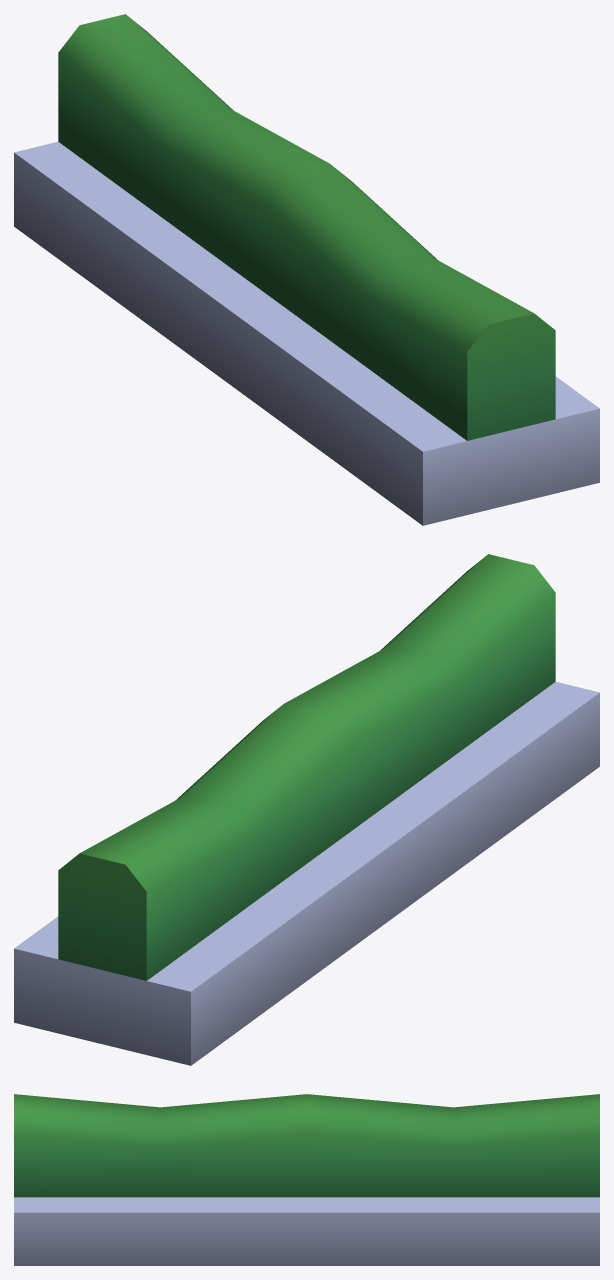
File: hedge_straight.glb
3 views of the same model, one above another, from view 1: azimuth 30°, elevation 25°; view 2: azimuth 150°, elevation 25°; view 3: azimuth 270°, elevation 25° (orthographic). The views are drawn at different scales.
Visible parts, largest first — view 1: hedge_straight; view 2: hedge_straight; view 3: hedge_straight.
Part boxes in pixels (box(x1,y1,x2,y2)): hedge_straight: box(14, 14, 599, 525); hedge_straight: box(14, 554, 599, 1065); hedge_straight: box(14, 1094, 599, 1265).
Bounding box in the file's own units: 0.25 × 0.25 × 1.
1 material, 1 textured.
